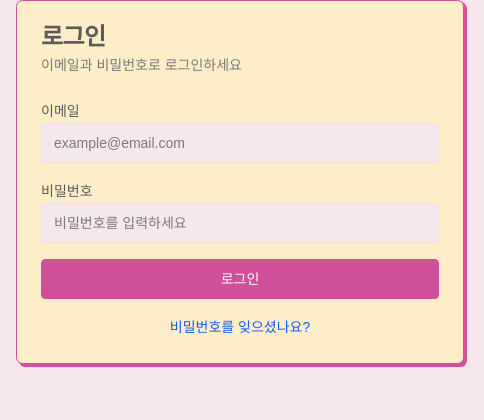
Test case: LoginForm › 잘못된 자격증명으로 로그인 실패 시 에러 메시지를 표시한다
The image size is (484, 420).
Step 1. Type "test@example.com" into the field labelled "이메일" → (240, 143), box [41,123,439,163]
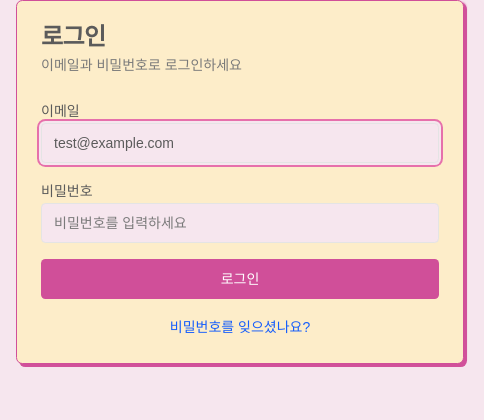
Step 2. Type "wrongpassword" into the password field labelled "비밀번호" → (240, 223), box [41,203,439,243]
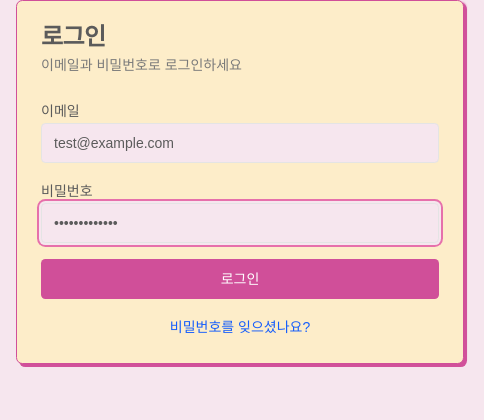
Step 3. Click the button "로그인" → (240, 279), box [41,259,439,299]
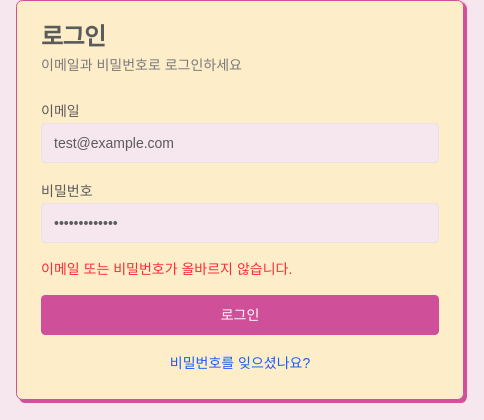
Check: the text "이메일 또는 비밀번호가 올바르지 않습니다." is shown, box [41,261,292,277]
